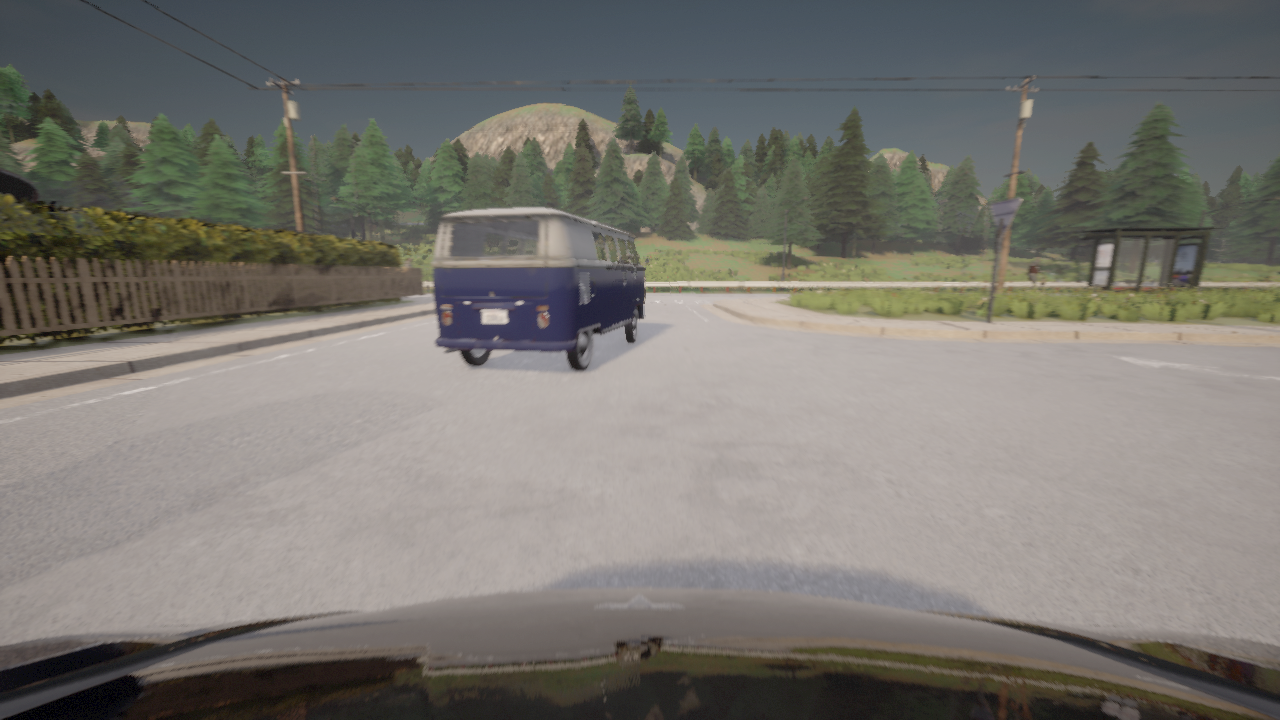cyclist: (0, 588, 1279, 719), (432, 207, 649, 371)
pedestrian: (405, 257, 425, 296), (1027, 256, 1046, 290)
